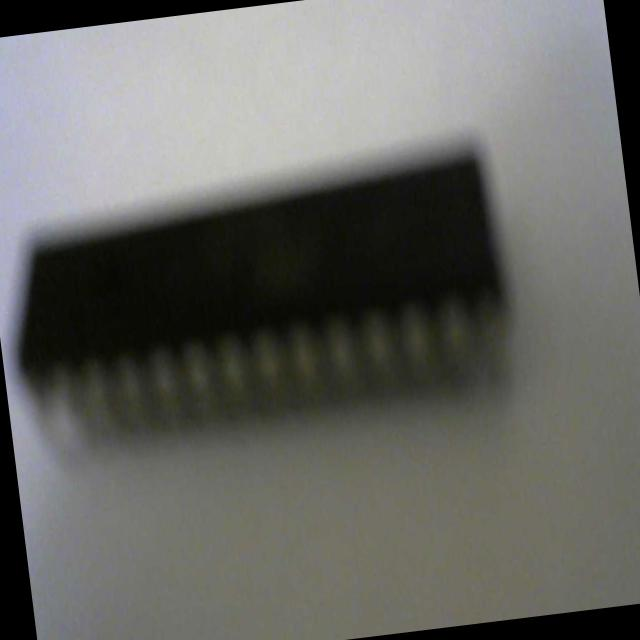atmega: (0, 135, 527, 471)
